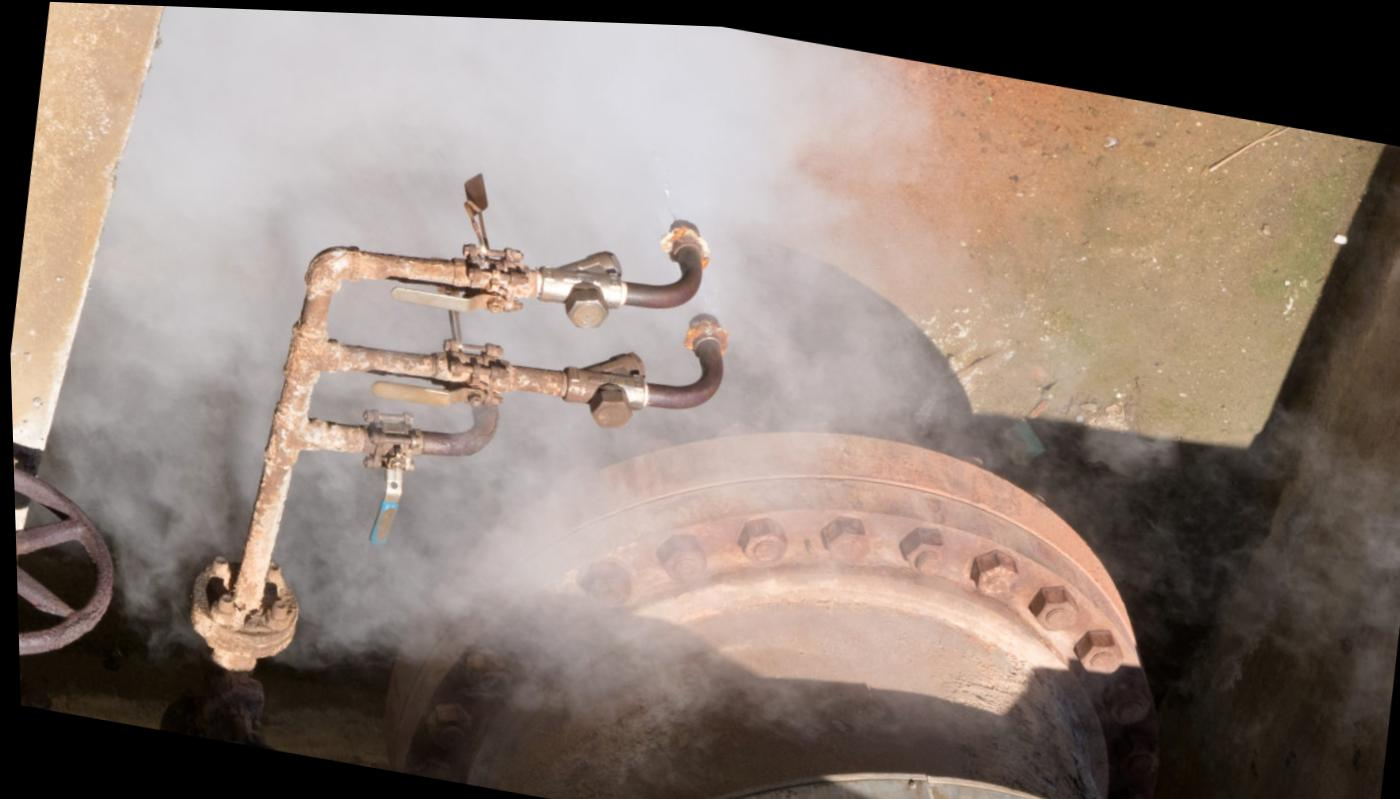leak: (43, 6, 897, 762)
